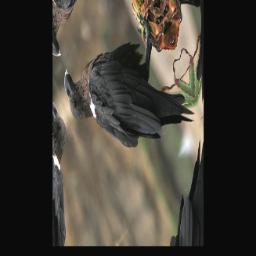Crow: (59, 0, 197, 234)
